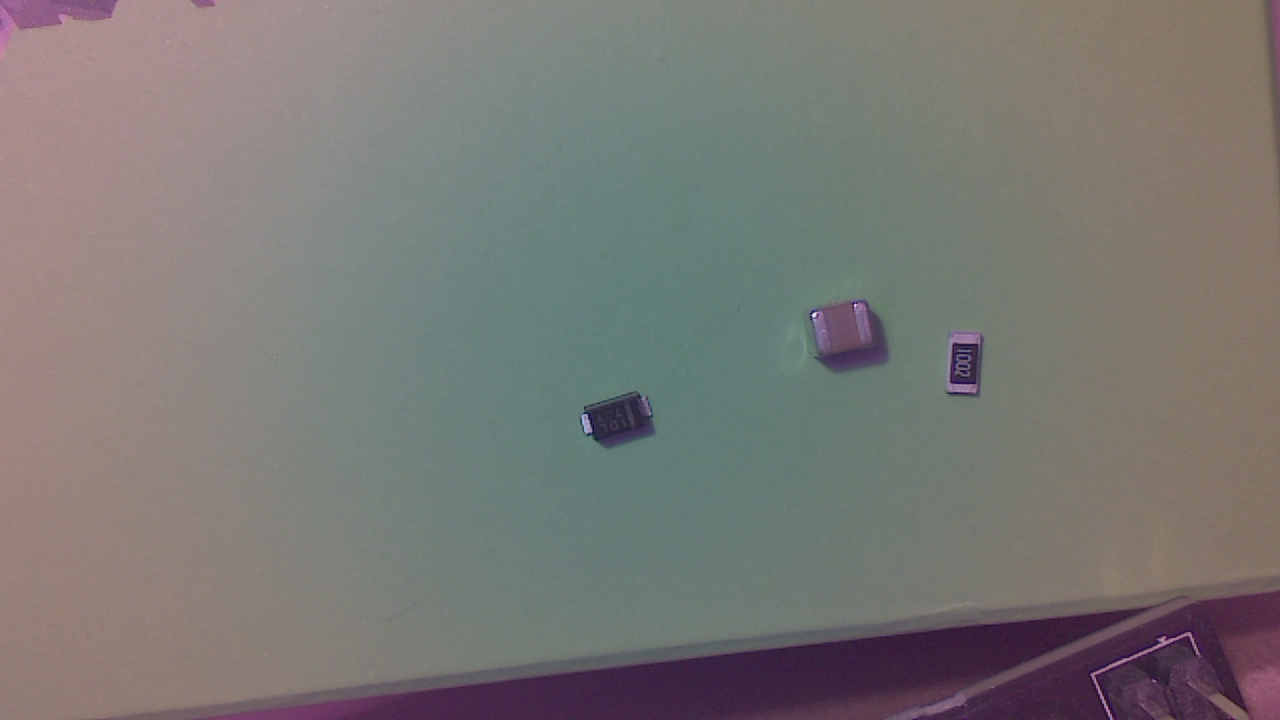Condensator: (812, 300, 880, 368)
Diode: (583, 393, 661, 448)
Resistor: (950, 336, 991, 404)
